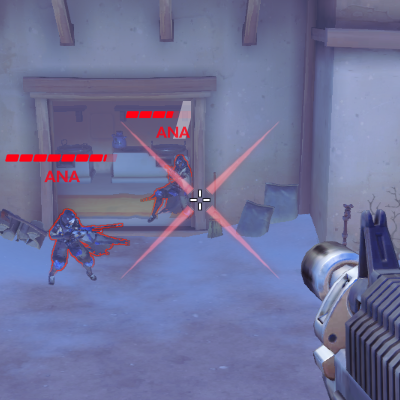hpbar: (4, 153, 117, 162), (126, 110, 194, 119)
